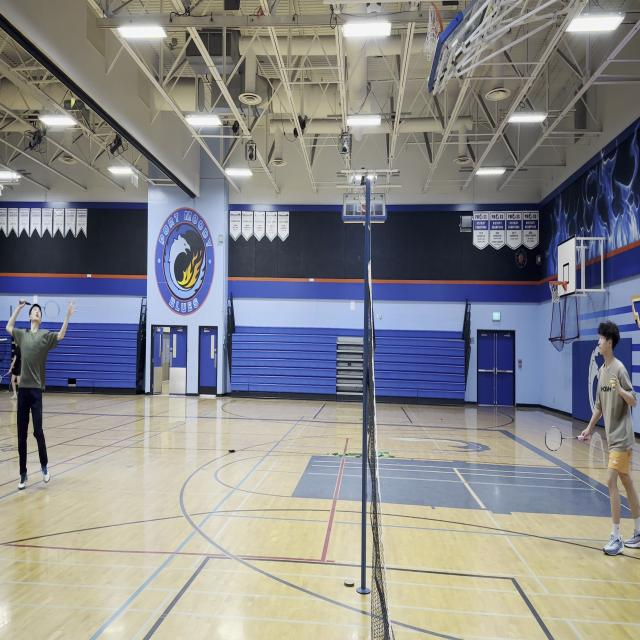shuttlecock: (70, 97, 76, 108)
